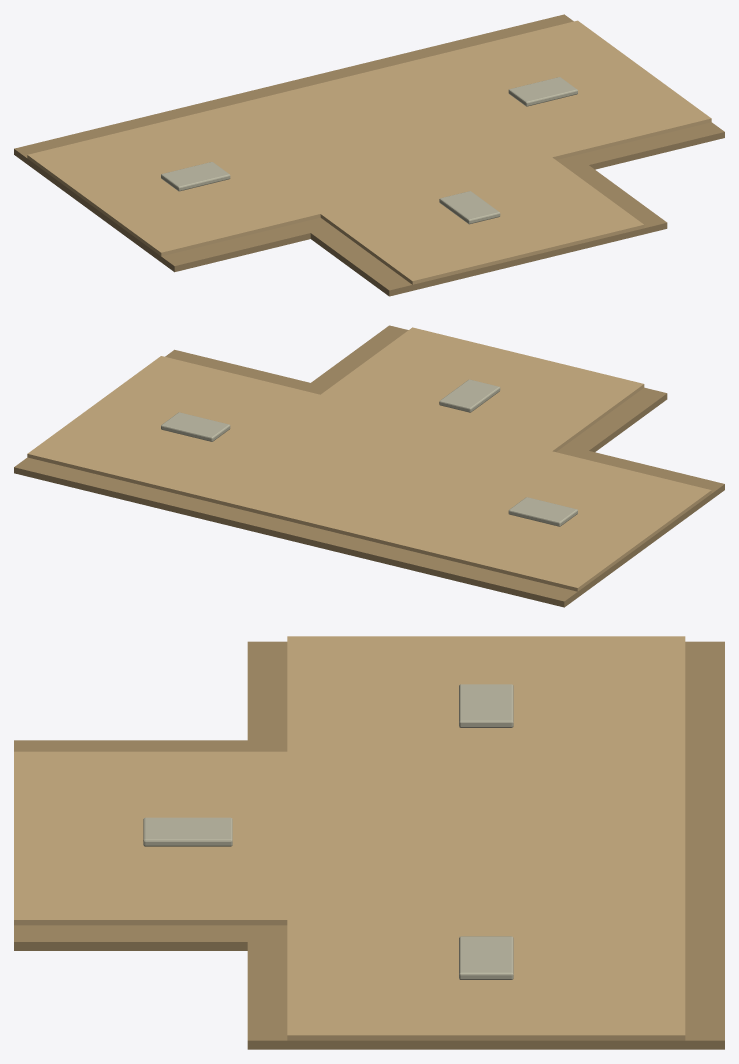
The model's file is path_tee.glb.
The picture shows the model from 3 angles, top to bottom: view 1: azimuth 30°, elevation 25°; view 2: azimuth 150°, elevation 25°; view 3: azimuth 270°, elevation 25°; orthographic projection. The views are drawn at different scales.
Visible parts, largest first — view 1: path_tee · path, path_tee · path_edge, path_tee · stone_light; view 2: path_tee · path, path_tee · path_edge, path_tee · stone_light; view 3: path_tee · path, path_tee · path_edge, path_tee · stone_light.
Part boxes in pixels (<box>): path_tee · path: <box>27,20,711,284</box>; path_tee · path_edge: <box>14,14,724,296</box>; path_tee · stone_light: <box>161,77,577,224</box>; path_tee · path: <box>27,327,711,591</box>; path_tee · path_edge: <box>14,325,724,607</box>; path_tee · stone_light: <box>161,379,577,526</box>; path_tee · path: <box>14,636,685,1040</box>; path_tee · path_edge: <box>14,641,724,1049</box>; path_tee · stone_light: <box>143,684,513,979</box>.
Size of the model in its own units: 0.95 by 0.024 by 0.715.
